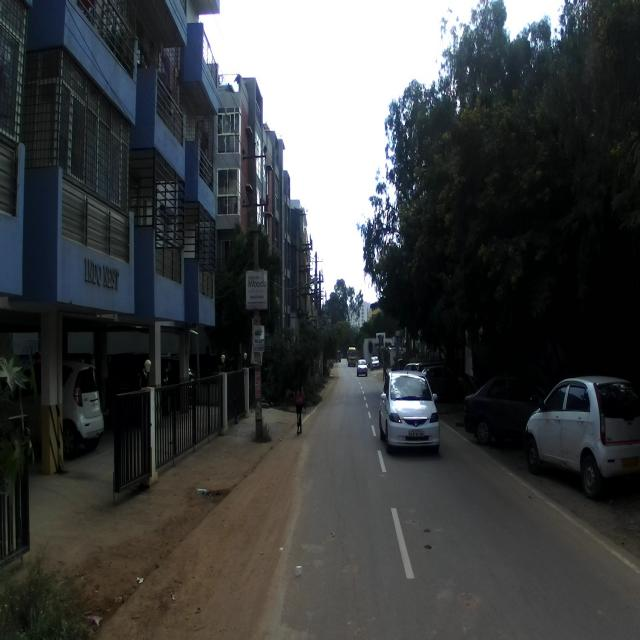Car: (378, 368, 440, 456)
Car_TATA: (524, 375, 640, 500)
